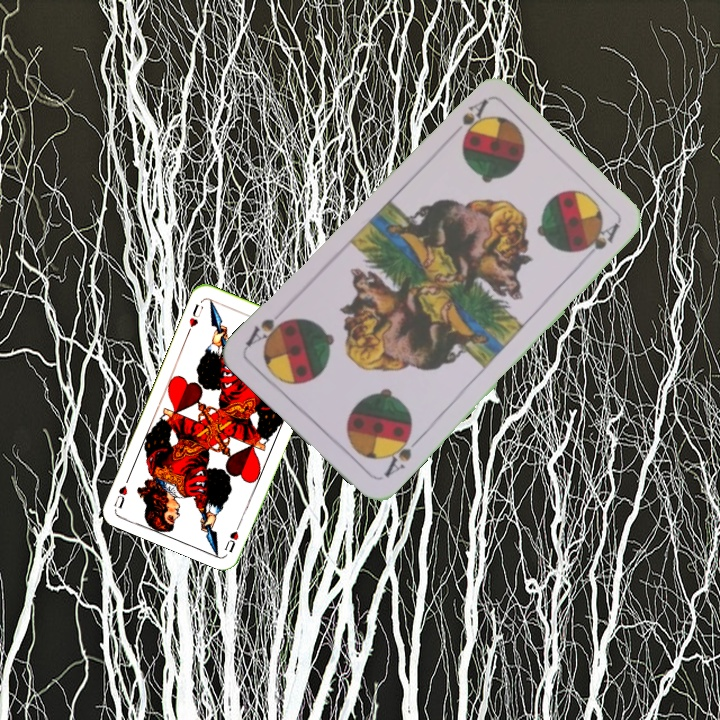HU: (220, 517, 244, 555), (183, 300, 206, 336)
SA: (379, 427, 423, 481), (444, 95, 491, 141)
